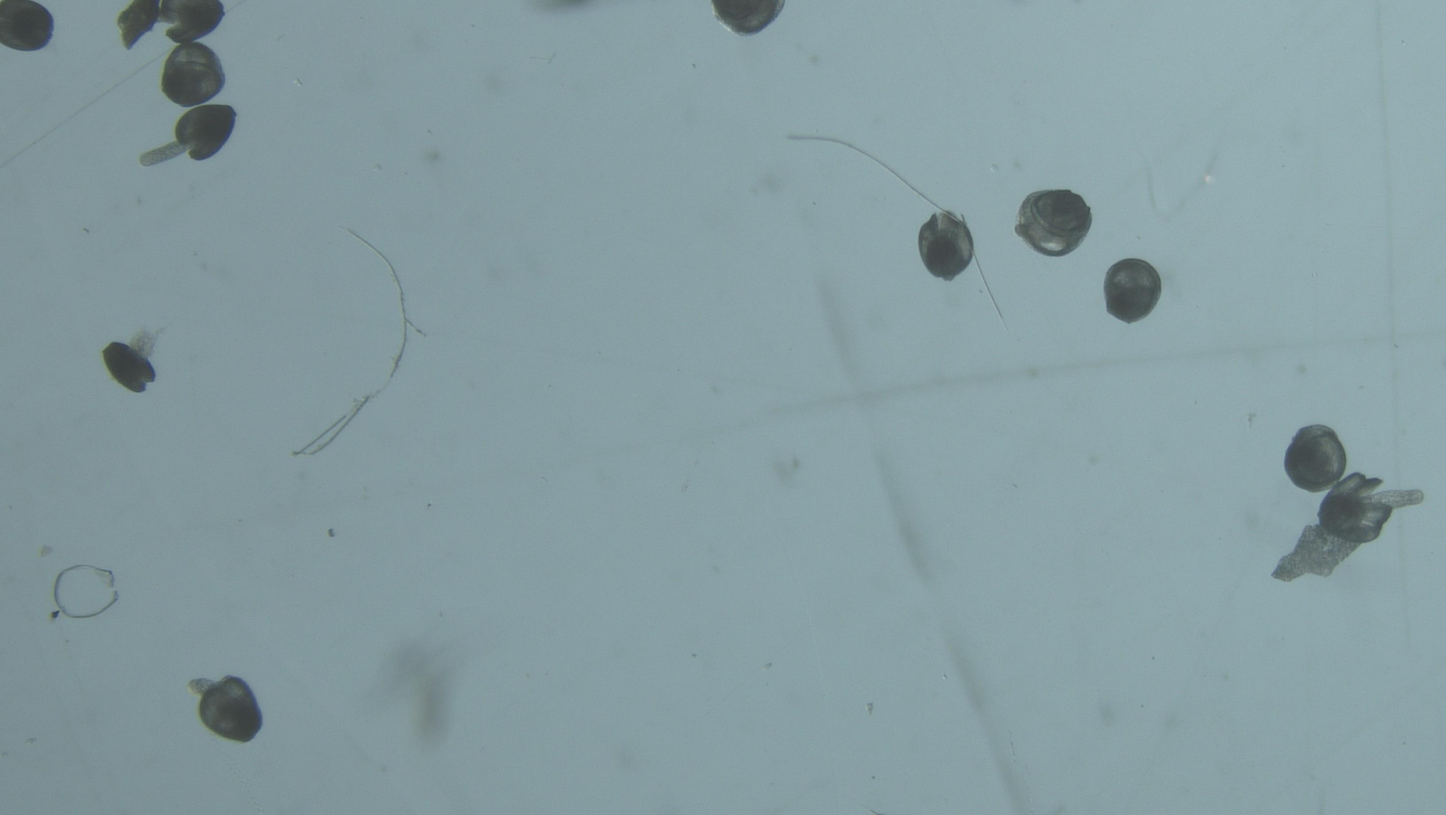dead: (50, 565, 118, 619)
live: (1318, 473, 1423, 544), (1015, 190, 1092, 257), (188, 676, 262, 742), (161, 42, 225, 108), (1285, 425, 1347, 493), (918, 211, 974, 280), (1104, 259, 1162, 323), (175, 105, 236, 160), (0, 0, 54, 51), (161, 0, 224, 43), (102, 342, 155, 393), (711, 0, 785, 35)
